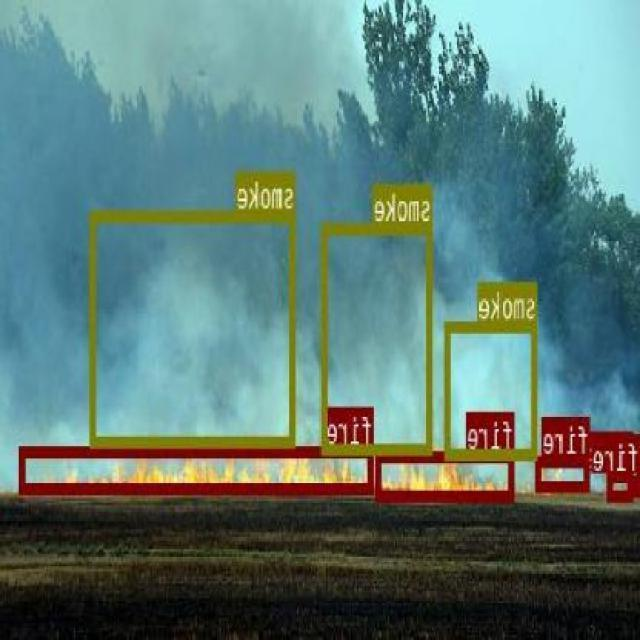Fire: (21, 446, 374, 491), (445, 322, 538, 458), (378, 450, 514, 499), (537, 454, 591, 491), (608, 471, 634, 498), (637, 473, 640, 493)
Smoke: (92, 210, 297, 446), (323, 222, 434, 453)
